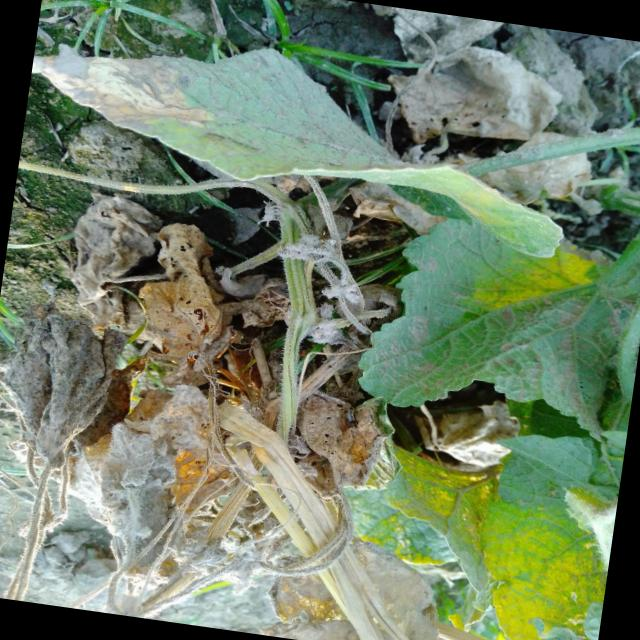cucumber_bacterial: (101, 168, 258, 398), (260, 326, 427, 526), (0, 266, 126, 527), (82, 406, 240, 610)
